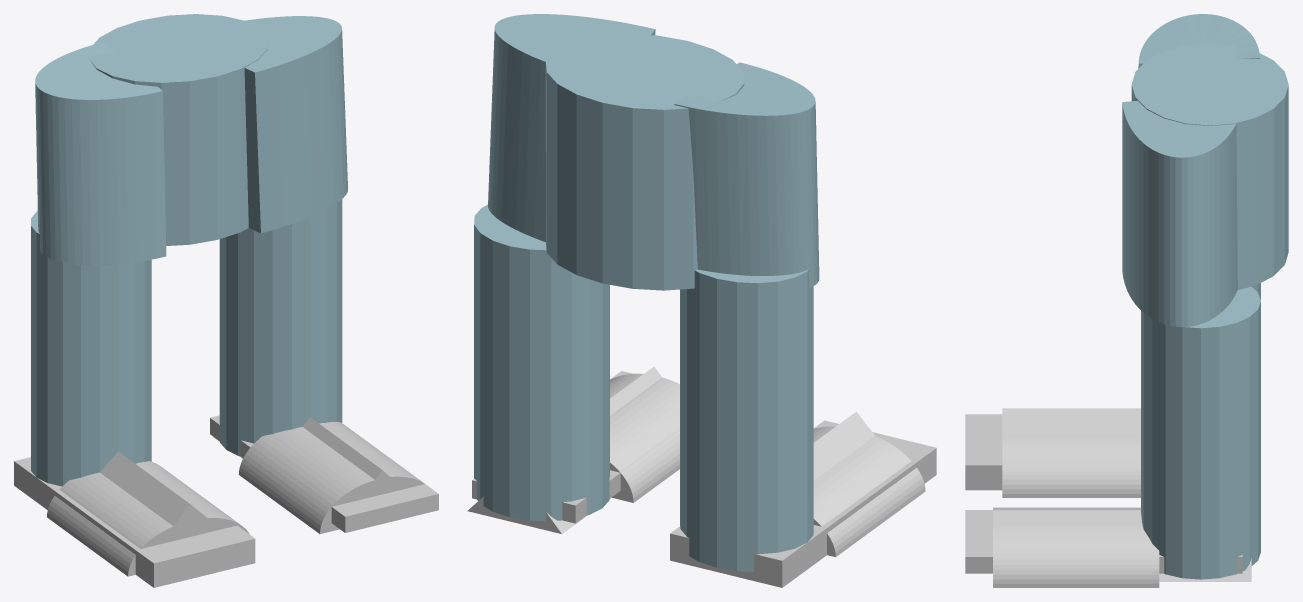
The model's file is Powerful Snaget (1).glb.
3 views of the same model, side by side, from view 1: azimuth 30°, elevation 25°; view 2: azimuth 150°, elevation 25°; view 3: azimuth 270°, elevation 25° (orthographic). The views are drawn at different scales.
Parts seen in each view (by area): view 1: Mesh_Mesh_head_geo.001_lambert2SG.001; view 2: Mesh_Mesh_head_geo.001_lambert2SG.001; view 3: Mesh_Mesh_head_geo.001_lambert2SG.001.
Part boxes in pixels (x1,y1,x2,y2): Mesh_Mesh_head_geo.001_lambert2SG.001: (14,14,438,587); Mesh_Mesh_head_geo.001_lambert2SG.001: (467,14,936,587); Mesh_Mesh_head_geo.001_lambert2SG.001: (965,14,1288,587).
Size of the model in its own units: 39 by 51.13 by 35.
